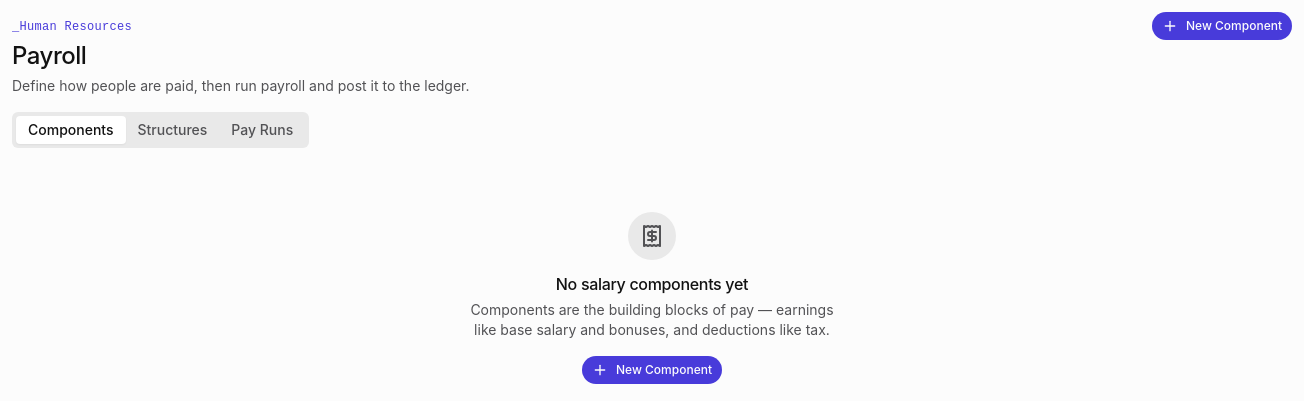
Test: PayrollPage › shows the error state when the pay-run list query fails
Click the tab "Pay Runs".
click(262, 130)  # box [219,116,305,144]
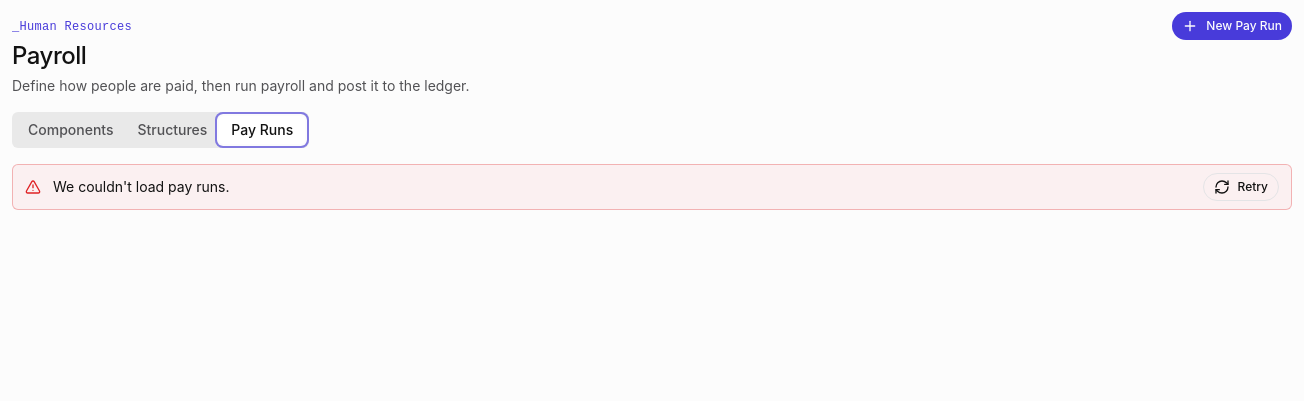
Result: the text "We couldn't load pay runs." is shown at [53,178,230,195]
